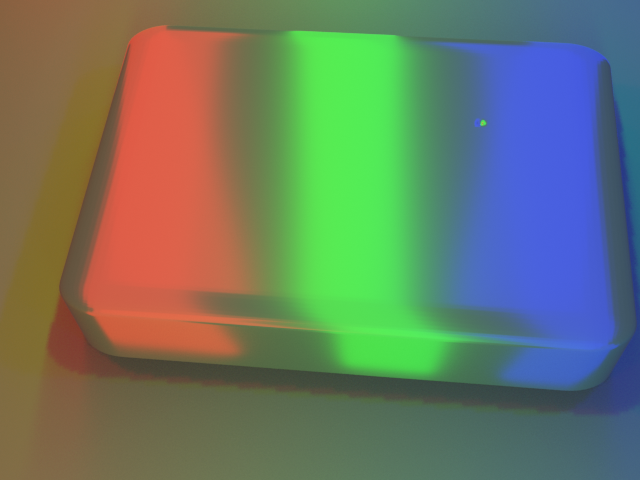dent: (481, 97, 512, 126)
